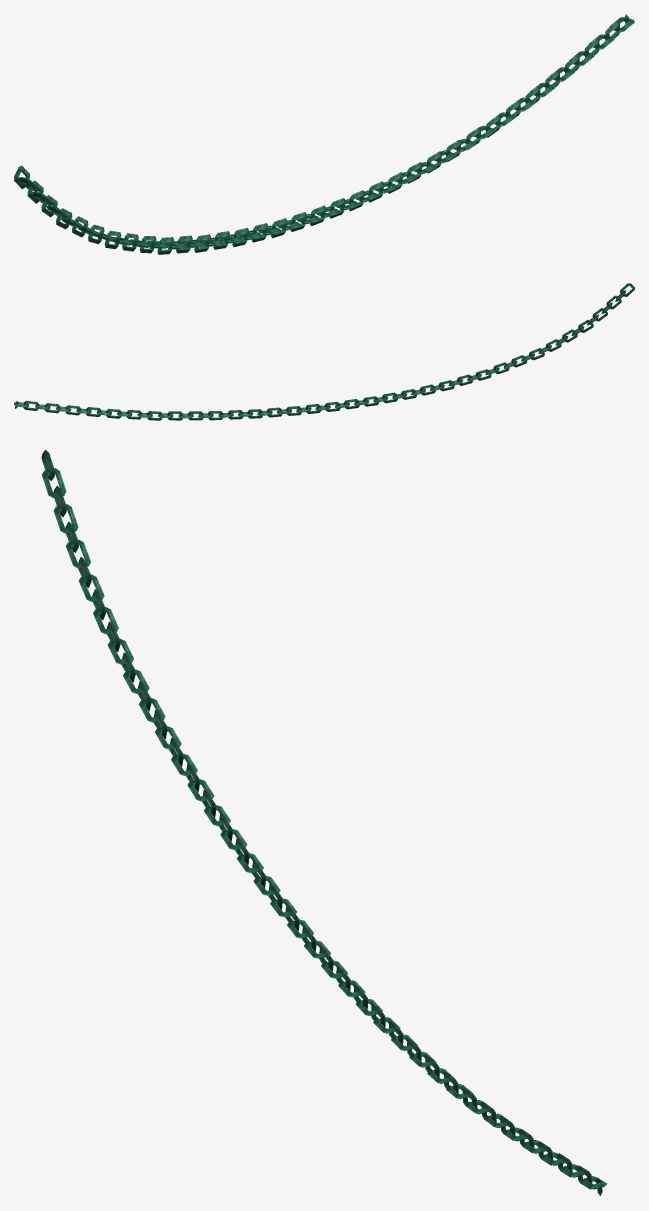
The model's file is 5st_chain_002.fbx.
The picture shows the model from 3 angles, top to bottom: view 1: azimuth 30°, elevation 25°; view 2: azimuth 150°, elevation 25°; view 3: azimuth 270°, elevation 25°; orthographic projection. The views are drawn at different scales.
Visible parts, largest first — view 1: 5st_chain_02; view 2: 5st_chain_02; view 3: 5st_chain_02.
Part boxes in pixels (x1,y1,x2,y2): 5st_chain_02: [14, 14, 634, 254]; 5st_chain_02: [14, 283, 634, 420]; 5st_chain_02: [41, 449, 607, 1195].
Bounding box in the file's own units: 41.44 × 12.3 × 21.05.
